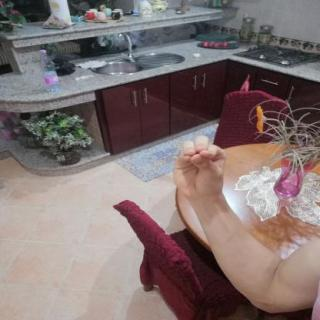HA: (163, 128, 236, 207)
